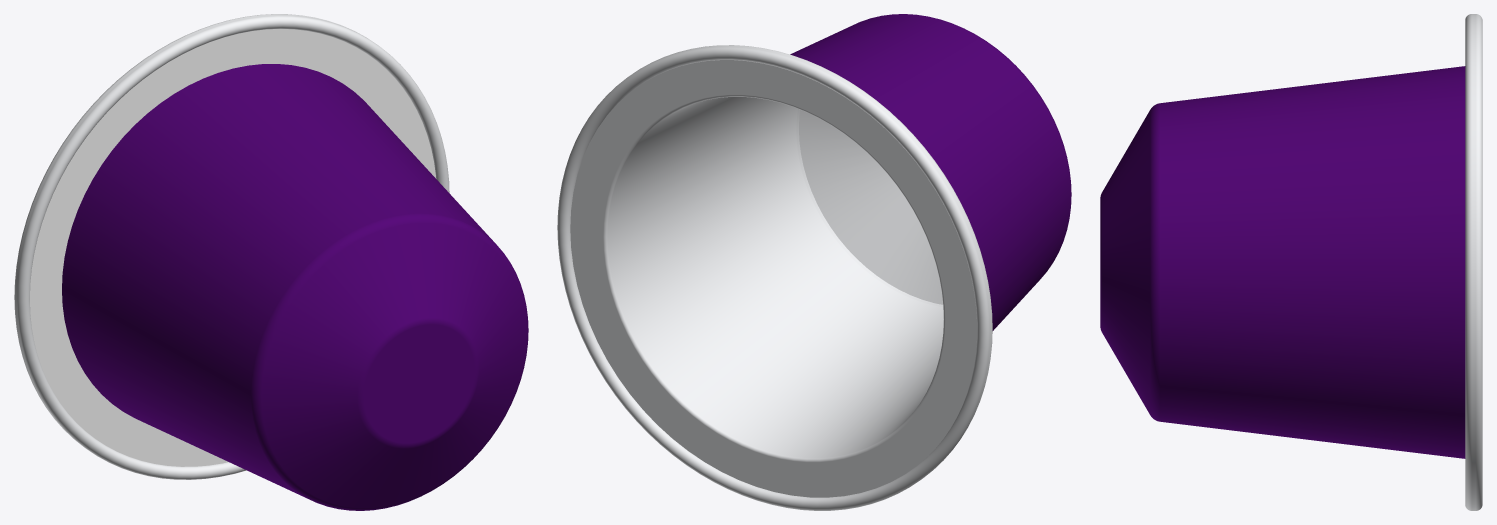
Rendered from Purple Open.glb.
3 renders of one model, left to right at view 1: azimuth 30°, elevation 25°; view 2: azimuth 150°, elevation 25°; view 3: azimuth 270°, elevation 25°, orthographic.
Parts seen in each view (by area): view 1: empty_3; view 2: empty_3; view 3: empty_3.
Boxes of the visible parts, x1=… form: empty_3: x1=14, y1=14, x2=528, y2=510; empty_3: x1=557, y1=14, x2=1071, y2=510; empty_3: x1=1100, y1=14, x2=1482, y2=510.
Bounding box in the file's own units: 0.037 × 0.037 × 0.0284.
